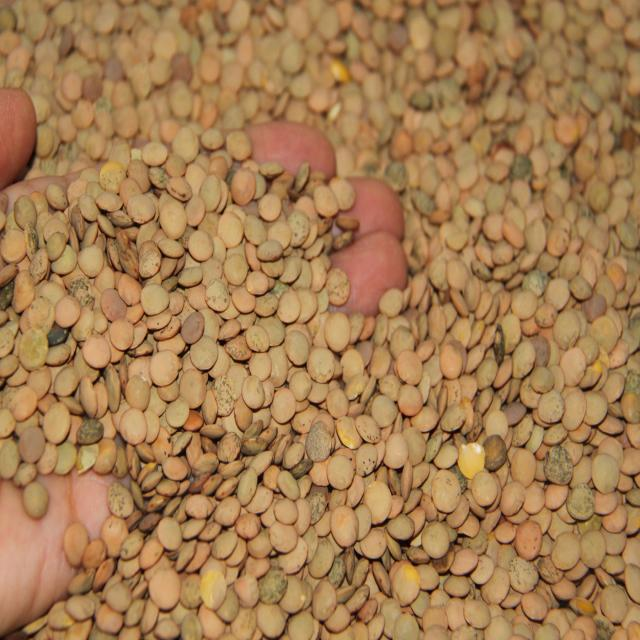lentejas: (15, 6, 633, 636)
